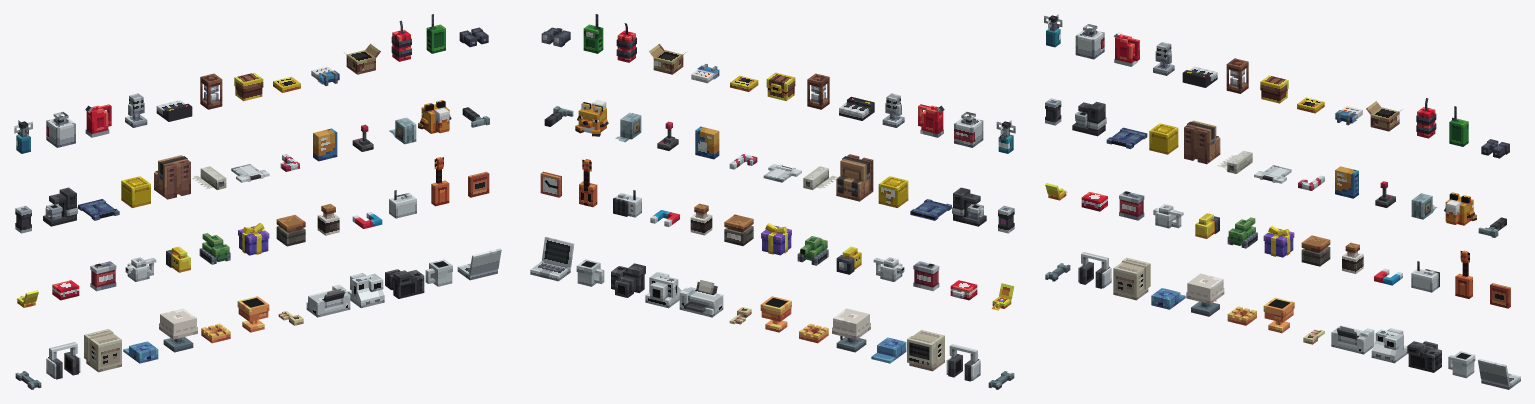
The model's file is item_props.gltf.
3 renders of one model, left to right at view 1: azimuth 30°, elevation 25°; view 2: azimuth 150°, elevation 25°; view 3: azimuth 330°, elevation 25°, orthographic.
Parts seen in each view (by area): view 1: cube (×20); view 2: cube (×19); view 3: cube (×19).
Boxes of the visible parts, x1,y1,x2,y2 form: cube (×20): [46, 24, 501, 367]; cube (×19): [530, 24, 983, 368]; cube (×19): [1075, 28, 1510, 385].
Size of the model in its own units: 12.75 by 6.89 by 0.916.
Materials: 2 (1 with a texture image).
